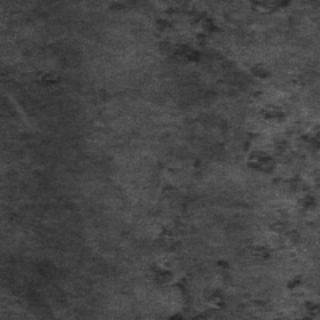rolled pit: (242, 62, 316, 318), (144, 157, 224, 315), (144, 1, 216, 61)
